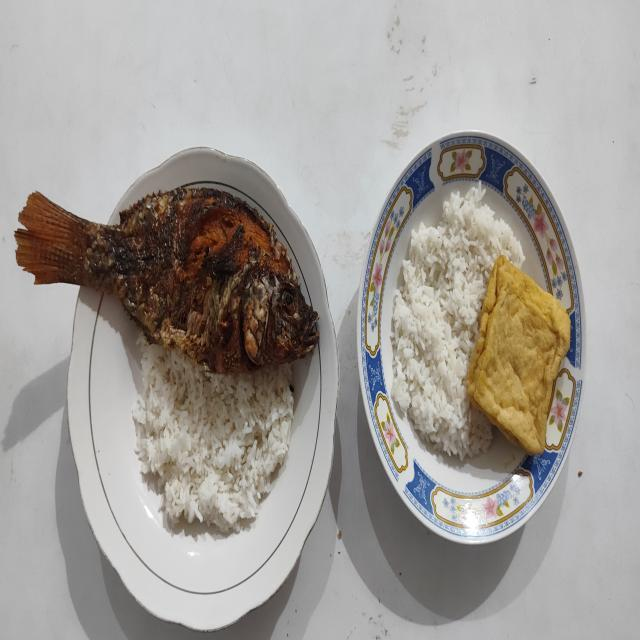ikan_mujair: (15, 186, 319, 374)
nasi_putih: (390, 188, 524, 460), (132, 338, 294, 532)
tahu_goreng: (466, 256, 570, 454)
